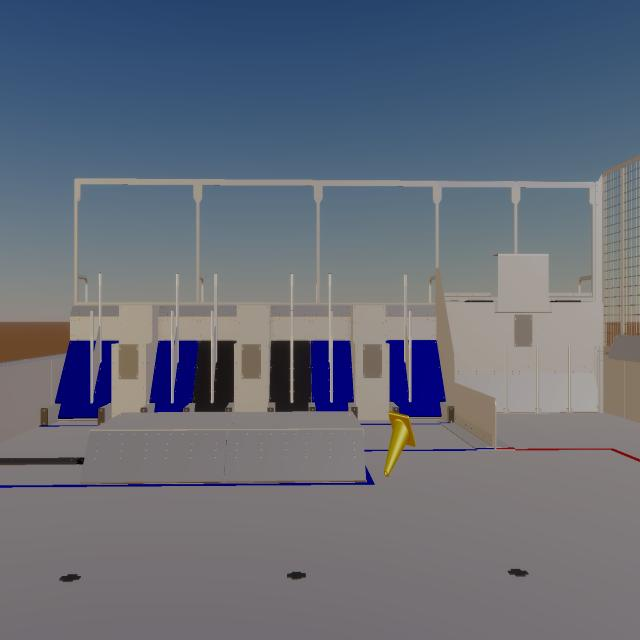frc_cone: (384, 411, 416, 477)
